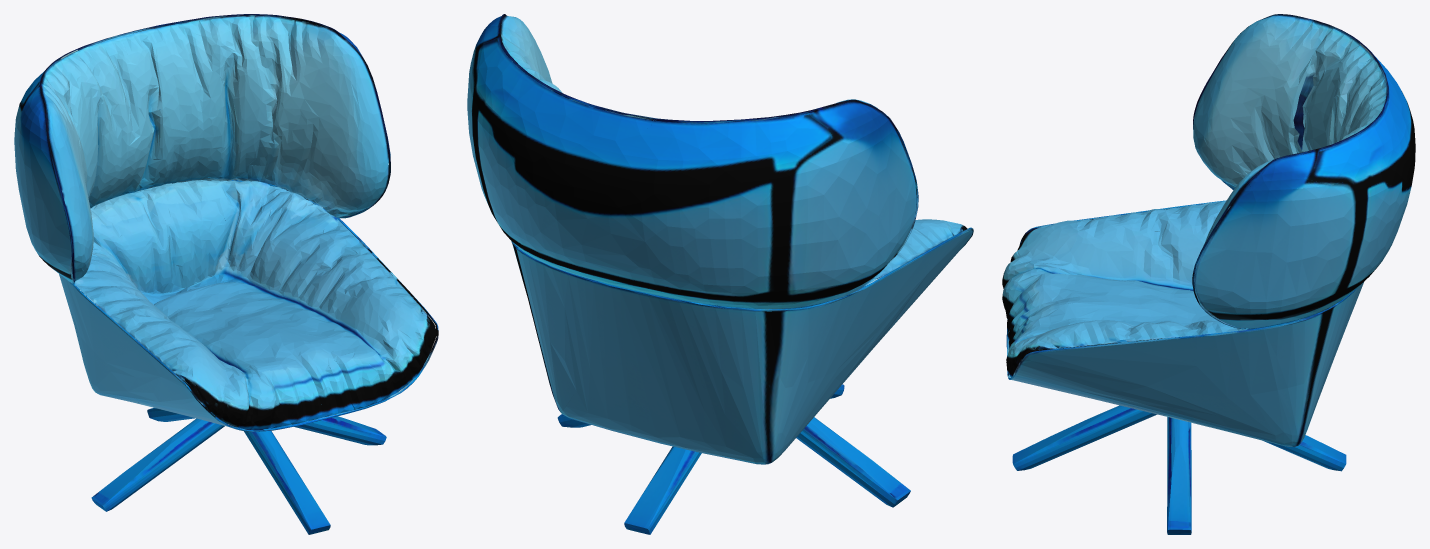
Rendered from edited_mesh.glb.
The picture shows the model from 3 angles, left to right: view 1: azimuth 30°, elevation 25°; view 2: azimuth 150°, elevation 25°; view 3: azimuth 270°, elevation 25°; orthographic projection. The views are drawn at different scales.
Visible parts, largest first — view 1: solid_001_wire; view 2: solid_001_wire; view 3: solid_001_wire.
Part boxes in pixels (x1,y1,x2,y2): solid_001_wire: (14,14,438,534); solid_001_wire: (467,14,973,534); solid_001_wire: (1002,14,1415,534).
Size of the model in its own units: 1.24 by 1.34 by 1.31.
1 material, 1 textured.
